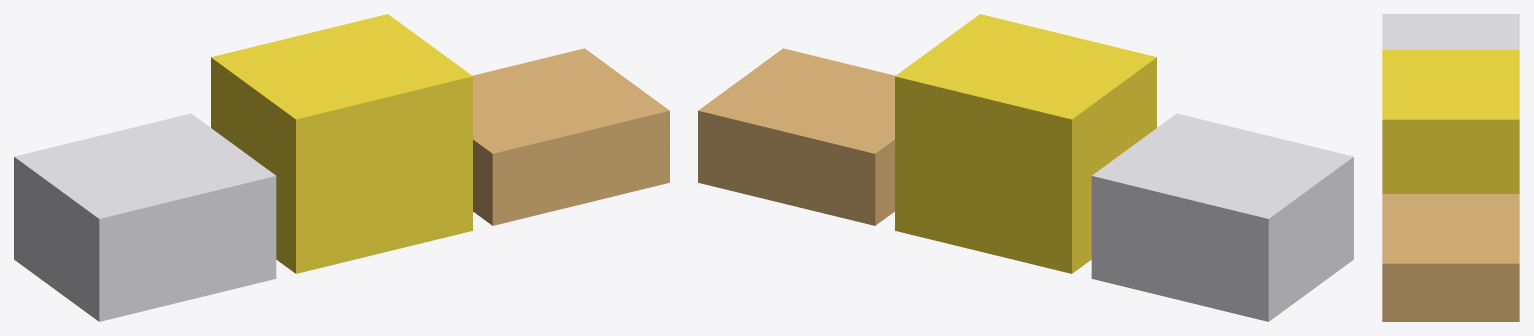
Rendered from podium.glb.
3 renders of one model, left to right at view 1: azimuth 30°, elevation 25°; view 2: azimuth 150°, elevation 25°; view 3: azimuth 270°, elevation 25°, orthographic. The views are drawn at different scales.
Parts seen in each view (by area): view 1: Step1_Gold, Step2_Silver, Step3_Bronze; view 2: Step1_Gold, Step2_Silver, Step3_Bronze; view 3: Step1_Gold, Step3_Bronze, Step2_Silver.
Boxes of the visible parts, x1=… form: Step1_Gold: x1=211, y1=14, x2=472, y2=273; Step2_Silver: x1=14, y1=113, x2=276, y2=321; Step3_Bronze: x1=472, y1=48, x2=669, y2=225; Step1_Gold: x1=895, y1=14, x2=1156, y2=273; Step2_Silver: x1=1091, y1=113, x2=1353, y2=321; Step3_Bronze: x1=698, y1=48, x2=895, y2=225; Step1_Gold: x1=1382, y1=50, x2=1519, y2=193; Step3_Bronze: x1=1382, y1=194, x2=1519, y2=321; Step2_Silver: x1=1382, y1=14, x2=1519, y2=49.
Bounding box in the file's own units: 5.8 × 1.5 × 1.5.
